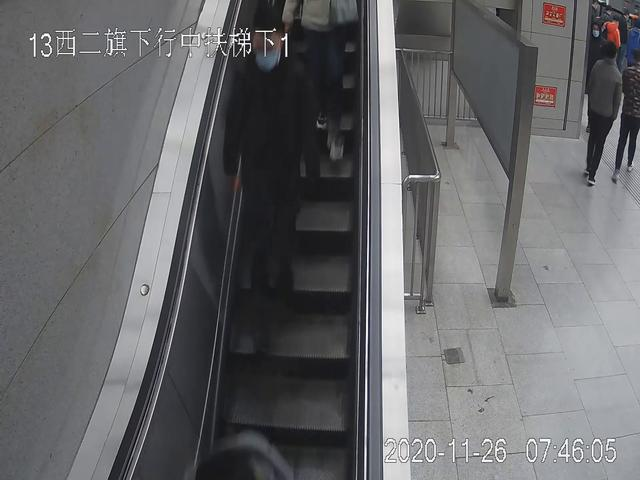person: (225, 23, 325, 357), (583, 42, 619, 187), (617, 55, 640, 180)
